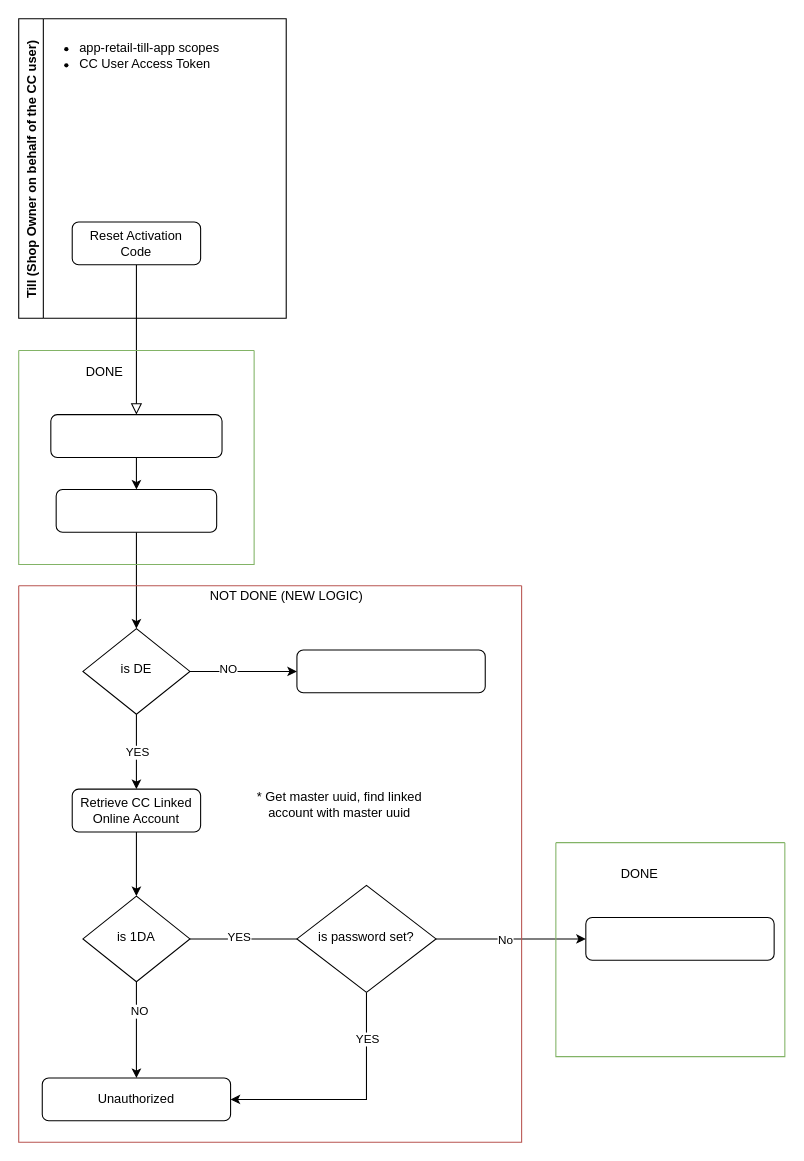
This 804x1161 diagram has some shape labels left out. Each missing label, with the centre of its shape:
CDFES /activation-code: (x=136, y=435)
REGFS /activation-code: (x=136, y=510)
reset 1DA /activation-code: (x=679, y=938)
reset CC /activation-code: (x=390, y=671)
